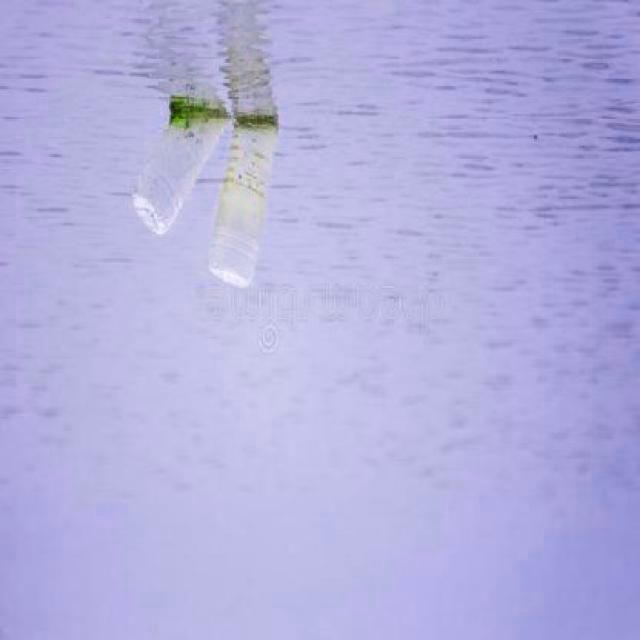Plastic: (125, 96, 222, 238), (205, 110, 281, 288)
